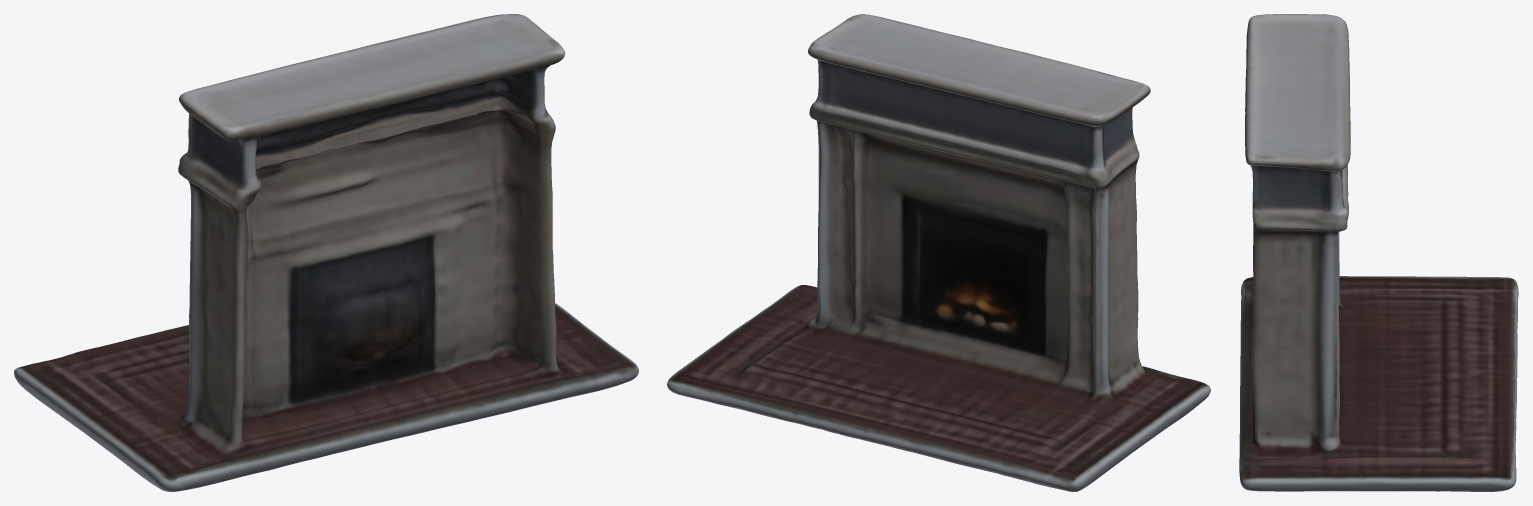
Rendered from fd51e340e08a_Fireplace__3d_asset.fbx.
3 views of the same model, side by side, from view 1: azimuth 30°, elevation 25°; view 2: azimuth 150°, elevation 25°; view 3: azimuth 270°, elevation 25° (orthographic). The views are drawn at different scales.
Visible parts, largest first — view 1: high_poly; view 2: high_poly; view 3: high_poly.
Part boxes in pixels (x1,y1,x2,y2): high_poly: (14,14,638,491); high_poly: (667,14,1210,491); high_poly: (1239,14,1518,491).
Size of the model in its own units: 100 by 69.81 by 57.41.
